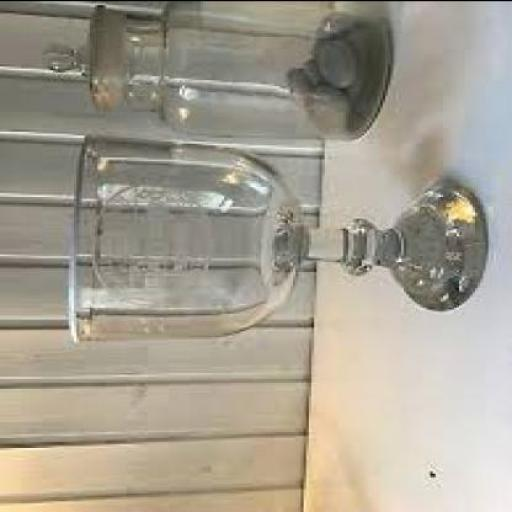glass: (69, 132, 482, 338), (42, 1, 392, 139)
